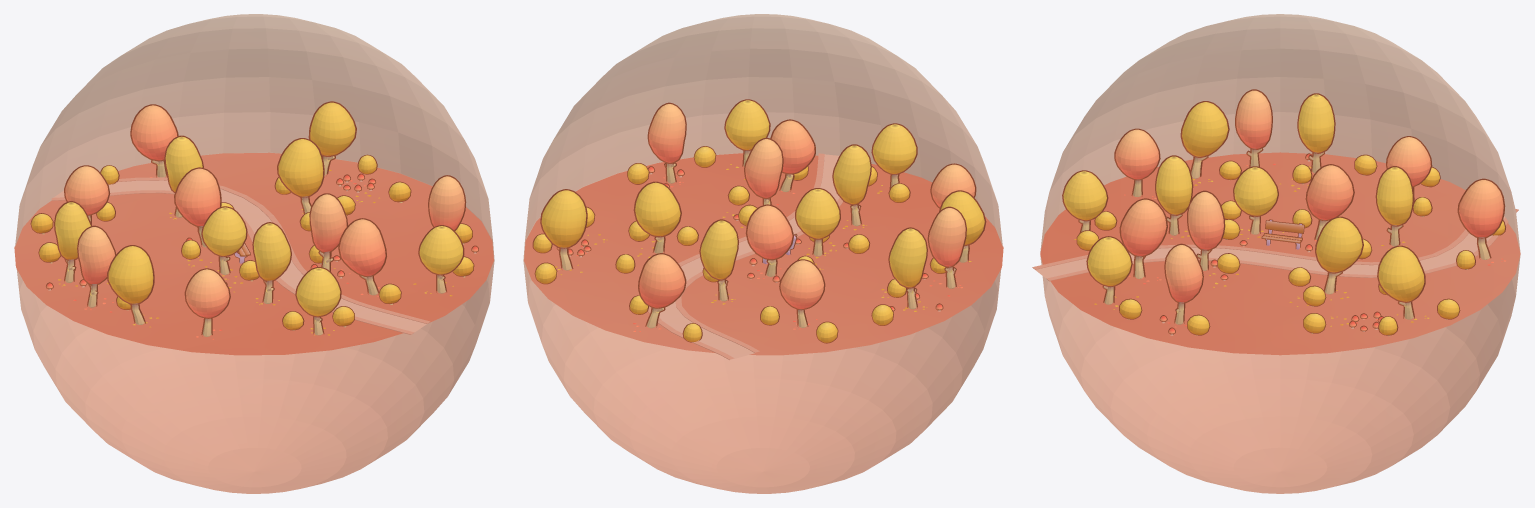
The model's file is a_quiet_place.glb.
The picture shows the model from 3 angles, left to right: view 1: azimuth 30°, elevation 25°; view 2: azimuth 150°, elevation 25°; view 3: azimuth 270°, elevation 25°; orthographic projection.
Visible parts, largest first — view 1: Object_2, Object_3, Object_6, Object_4, Object_5, Object_9, Object_11, Object_13, Object_10, Object_15; view 2: Object_2, Object_6, Object_3, Object_4, Object_5, Object_9, Object_13, Object_11, Object_10, Object_15, Object_12; view 3: Object_2, Object_3, Object_6, Object_4, Object_5, Object_9, Object_11, Object_13, Object_10, Object_15, Object_12.
Boxes of the visible parts, bbox=[...] form: Object_2: bbox=[14, 14, 494, 493]; Object_3: bbox=[65, 139, 340, 336]; Object_6: bbox=[55, 136, 464, 307]; Object_4: bbox=[58, 102, 462, 335]; Object_5: bbox=[51, 165, 430, 334]; Object_9: bbox=[31, 182, 473, 329]; Object_11: bbox=[107, 101, 464, 335]; Object_13: bbox=[54, 135, 466, 306]; Object_10: bbox=[46, 165, 478, 334]; Object_15: bbox=[30, 181, 474, 330]; Object_2: bbox=[523, 14, 1003, 493]; Object_6: bbox=[649, 104, 965, 309]; Object_3: bbox=[635, 124, 984, 327]; Object_4: bbox=[533, 100, 971, 328]; Object_5: bbox=[648, 153, 843, 359]; Object_9: bbox=[535, 146, 945, 342]; Object_13: bbox=[647, 102, 966, 308]; Object_11: bbox=[540, 99, 986, 327]; Object_10: bbox=[556, 123, 943, 326]; Object_15: bbox=[534, 146, 945, 343]; Object_12: bbox=[532, 233, 906, 342]; Object_2: bbox=[1040, 14, 1520, 493]; Object_3: bbox=[1063, 102, 1430, 294]; Object_6: bbox=[1156, 90, 1412, 324]; Object_4: bbox=[1074, 164, 1503, 334]; Object_5: bbox=[1032, 209, 1518, 281]; Object_9: bbox=[1077, 155, 1459, 334]; Object_11: bbox=[1086, 101, 1505, 318]; Object_13: bbox=[1155, 89, 1413, 323]; Object_10: bbox=[1062, 136, 1432, 334]; Object_15: bbox=[1076, 154, 1460, 335]; Object_12: bbox=[1261, 164, 1505, 335].
Bounding box in the file's own units: 26.47 × 26.43 × 26.86.
8 materials, 8 textured.
